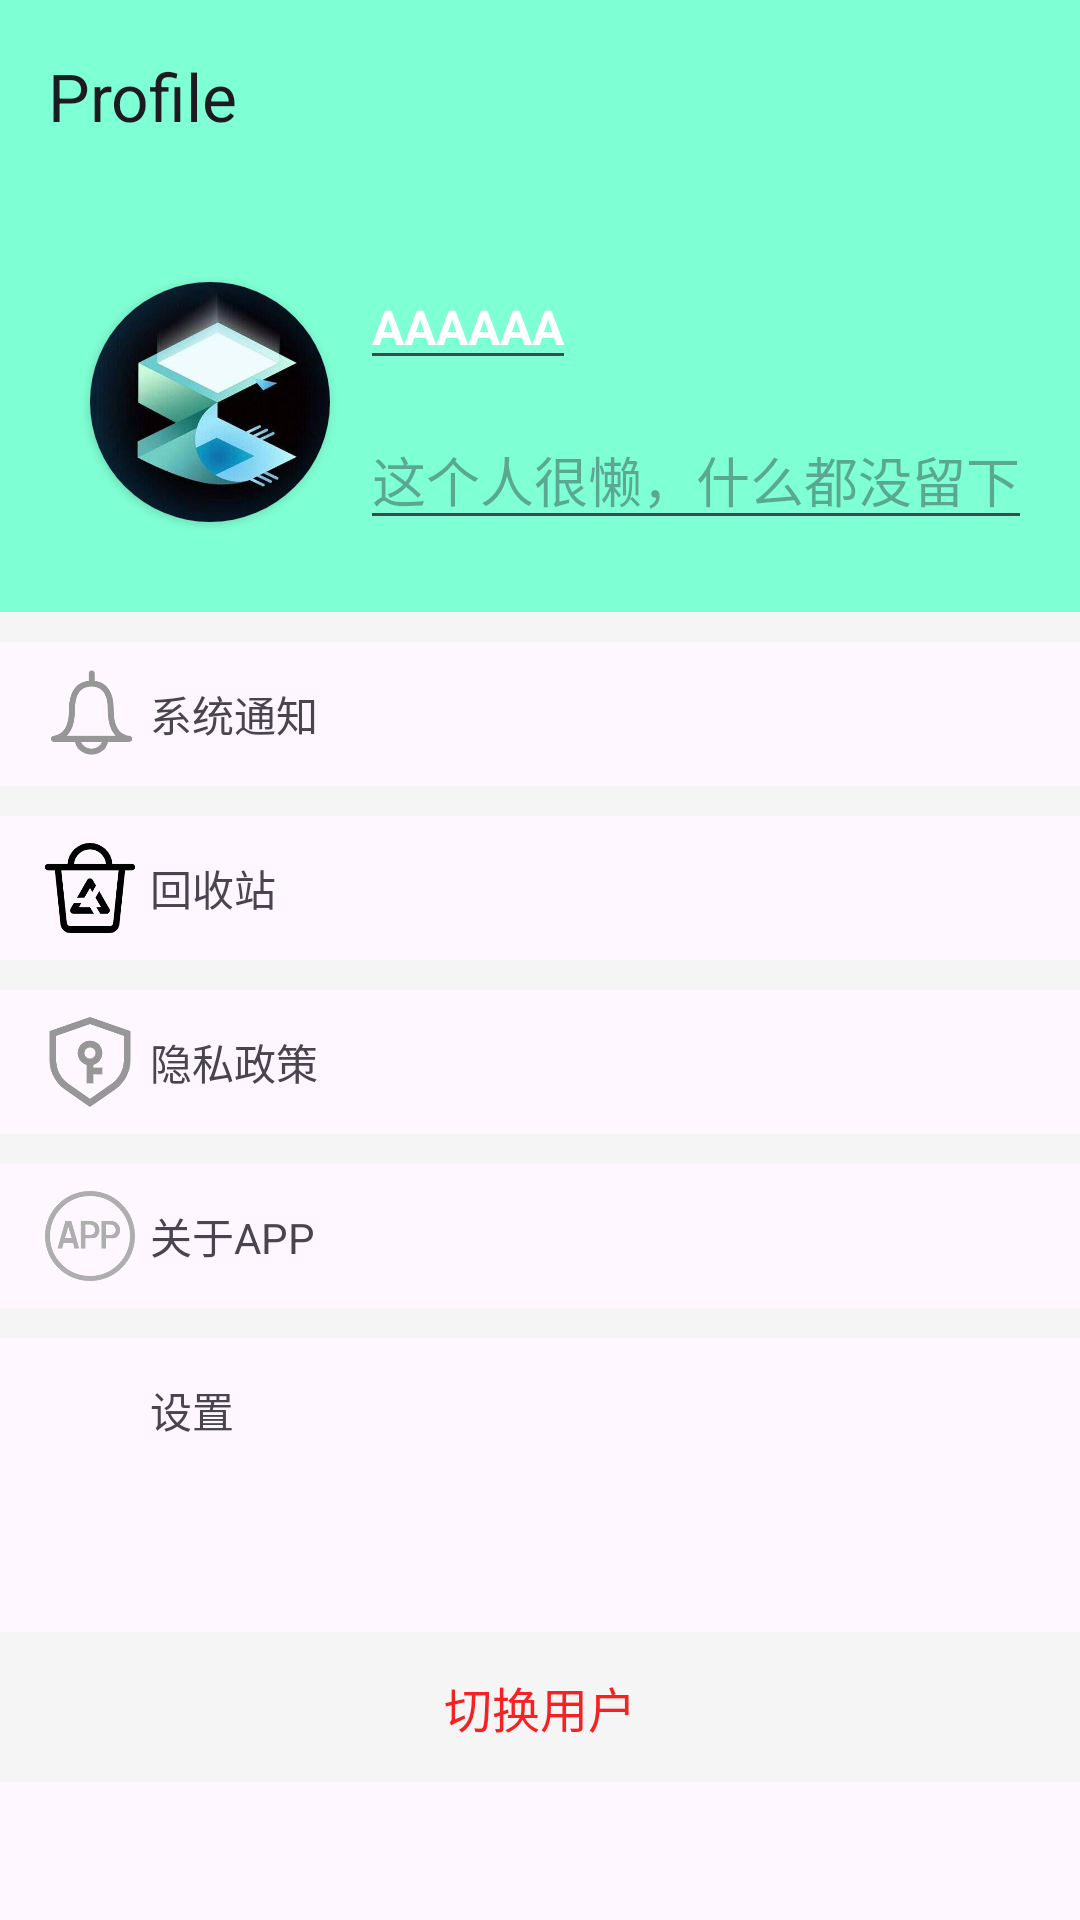

Screen size 1080x1920. Icon name, then its center in pixels as (x=x, y=y):
about app: (x=90, y=1236)
privacy policy: (x=90, y=1062)
recycle bin: (x=90, y=888)
system message: (x=91, y=712)
